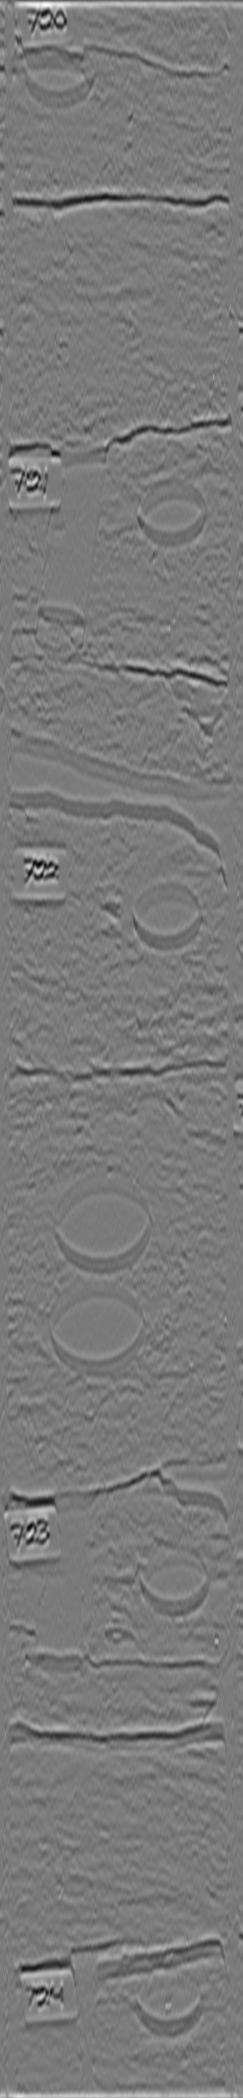hplug: (126, 872, 207, 958), (135, 1533, 215, 1619), (15, 36, 101, 115), (131, 1962, 210, 2040), (134, 474, 211, 549)
scal: (44, 1165, 158, 1275), (44, 1278, 155, 1382)
vplug: (33, 439, 113, 652), (20, 1489, 101, 1681)
